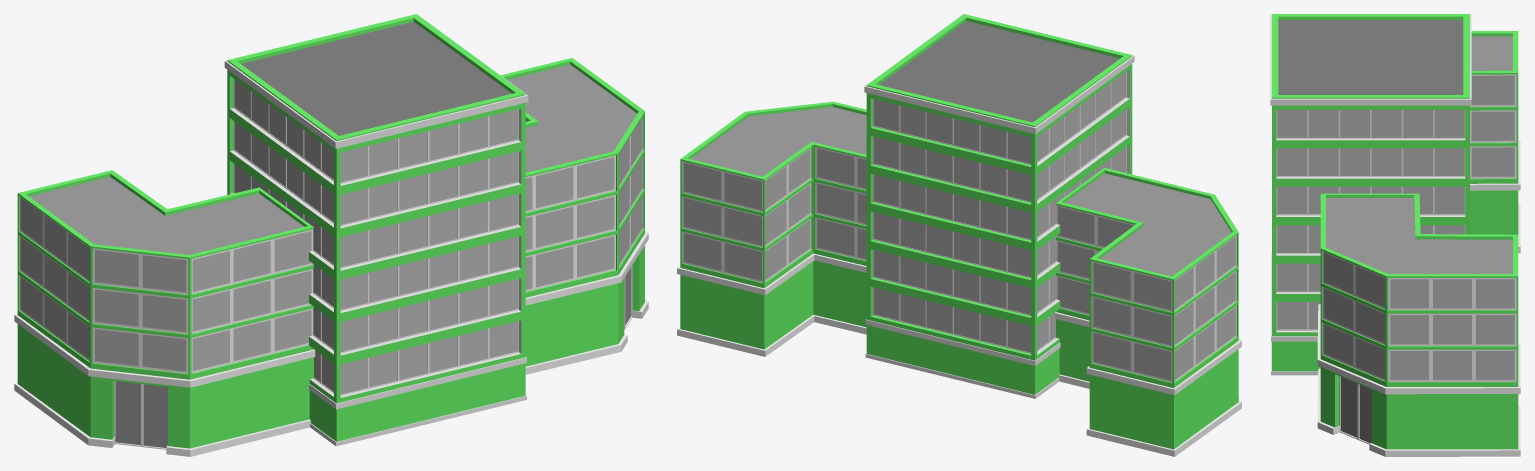
File: SM_House_15_03.FBX
3 renders of one model, left to right at view 1: azimuth 30°, elevation 25°; view 2: azimuth 150°, elevation 25°; view 3: azimuth 270°, elevation 25°, orthographic. The views are drawn at different scales.
Visible parts, largest first — view 1: SM_House_15_03; view 2: SM_House_15_03; view 3: SM_House_15_03.
Boxes of the visible parts, x1,y1,x2,y2 form: SM_House_15_03: [14, 14, 648, 456]; SM_House_15_03: [677, 14, 1241, 456]; SM_House_15_03: [1270, 14, 1520, 456].
Size of the model in its own units: 17.78 by 9.28 by 7.6.
Materials: 2 (2 with a texture image).
